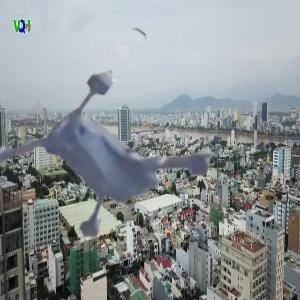drone: (7, 22, 257, 272)
